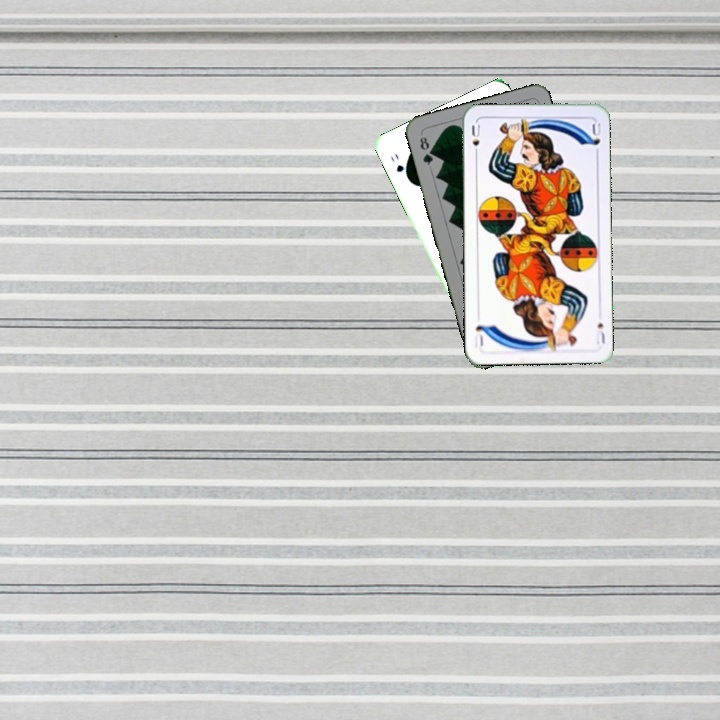G8: (416, 132, 436, 168)
GO: (386, 148, 412, 183)
SU: (468, 121, 482, 160), (592, 318, 608, 347)
